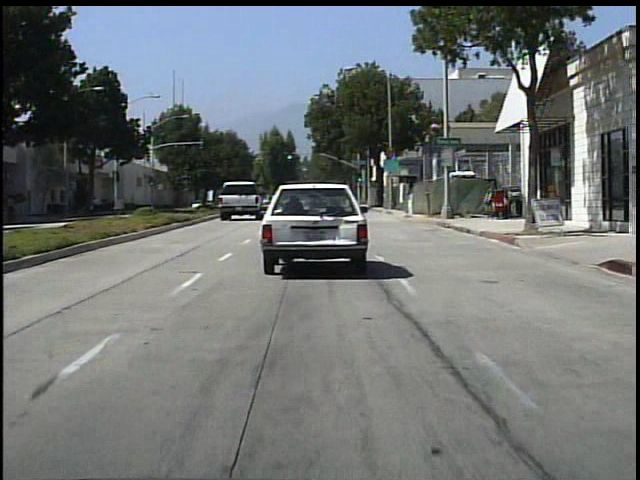person: (8, 195, 27, 227)
